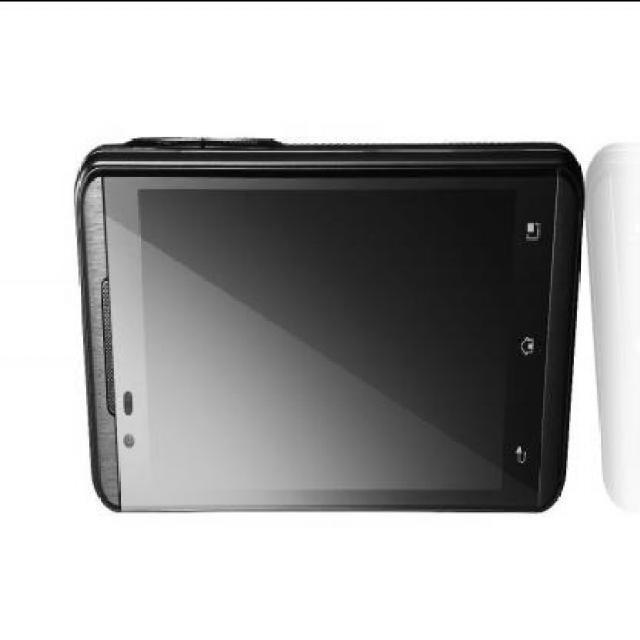fake: (78, 100, 592, 534)
